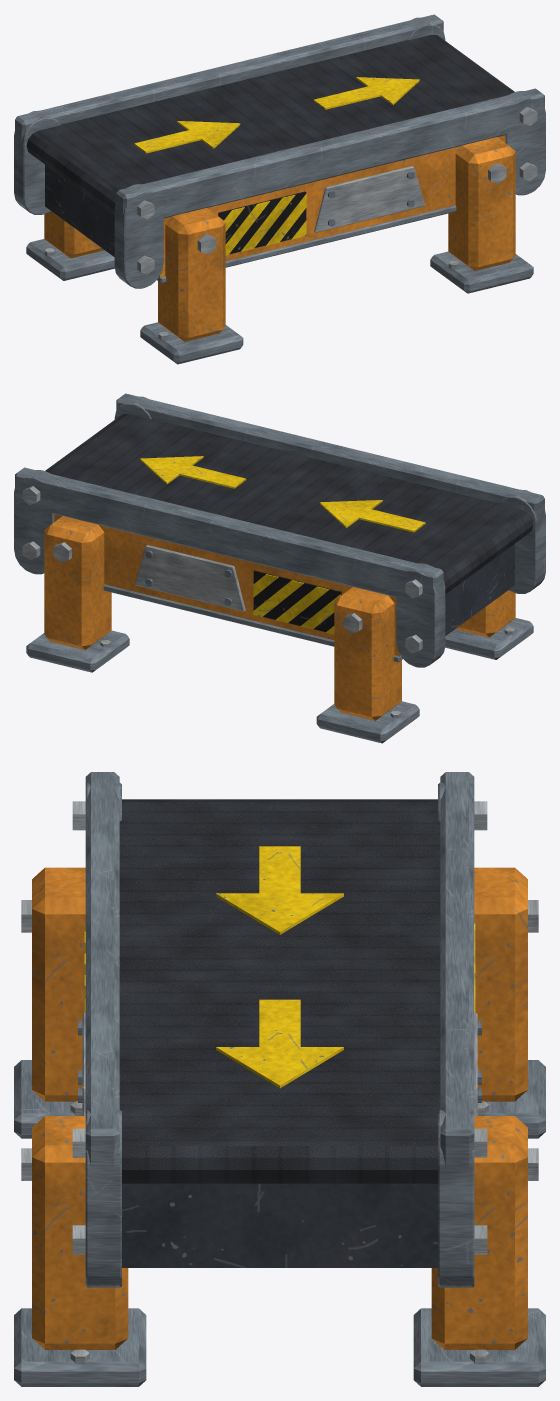
The model's file is conveyor_straight.glb.
3 renders of one model, top to bottom at view 1: azimuth 30°, elevation 25°; view 2: azimuth 150°, elevation 25°; view 3: azimuth 270°, elevation 25°, orthographic. The views are drawn at different scales.
Parts seen in each view (by area): view 1: ConveyorStraight_SteelGrey, ConveyorStraight_Belt, ConveyorStraight_Orange, ConveyorStraight_SteelLight, ConveyorStraight_Yellow, ConveyorStraight_DarkGrey, ConveyorStraight_Black; view 2: ConveyorStraight_SteelGrey, ConveyorStraight_Belt, ConveyorStraight_Orange, ConveyorStraight_SteelLight, ConveyorStraight_Yellow, ConveyorStraight_DarkGrey, ConveyorStraight_Black; view 3: ConveyorStraight_Belt, ConveyorStraight_SteelGrey, ConveyorStraight_Orange, ConveyorStraight_DarkGrey, ConveyorStraight_Yellow, ConveyorStraight_SteelLight.
Part boxes in pixels (left/top/right/bottom): ConveyorStraight_SteelGrey: left=14, top=14, right=545, bottom=364; ConveyorStraight_Belt: left=26, top=35, right=514, bottom=215; ConveyorStraight_Orange: left=44, top=135, right=515, bottom=341; ConveyorStraight_SteelLight: left=44, top=107, right=537, bottom=339; ConveyorStraight_Yellow: left=134, top=77, right=419, bottom=255; ConveyorStraight_DarkGrey: left=45, top=165, right=114, bottom=256; ConveyorStraight_Black: left=218, top=191, right=306, bottom=254; ConveyorStraight_SteelGrey: left=14, top=393, right=545, bottom=743; ConveyorStraight_Belt: left=45, top=414, right=533, bottom=594; ConveyorStraight_Orange: left=44, top=514, right=515, bottom=720; ConveyorStraight_SteelLight: left=22, top=486, right=515, bottom=718; ConveyorStraight_Yellow: left=140, top=456, right=425, bottom=634; ConveyorStraight_DarkGrey: left=445, top=544, right=514, bottom=635; ConveyorStraight_Black: left=253, top=570, right=341, bottom=632; ConveyorStraight_Belt: left=119, top=799, right=440, bottom=1183; ConveyorStraight_SteelGrey: left=14, top=772, right=545, bottom=1386; ConveyorStraight_Orange: left=32, top=867, right=527, bottom=1349; ConveyorStraight_DarkGrey: left=122, top=1183, right=437, bottom=1267; ConveyorStraight_Yellow: left=84, top=846, right=475, bottom=1088; ConveyorStraight_SteelLight: left=21, top=801, right=538, bottom=1364.
Size of the model in its own units: 8 by 2.95 by 4.98.
Materials: 7 (7 with a texture image).
